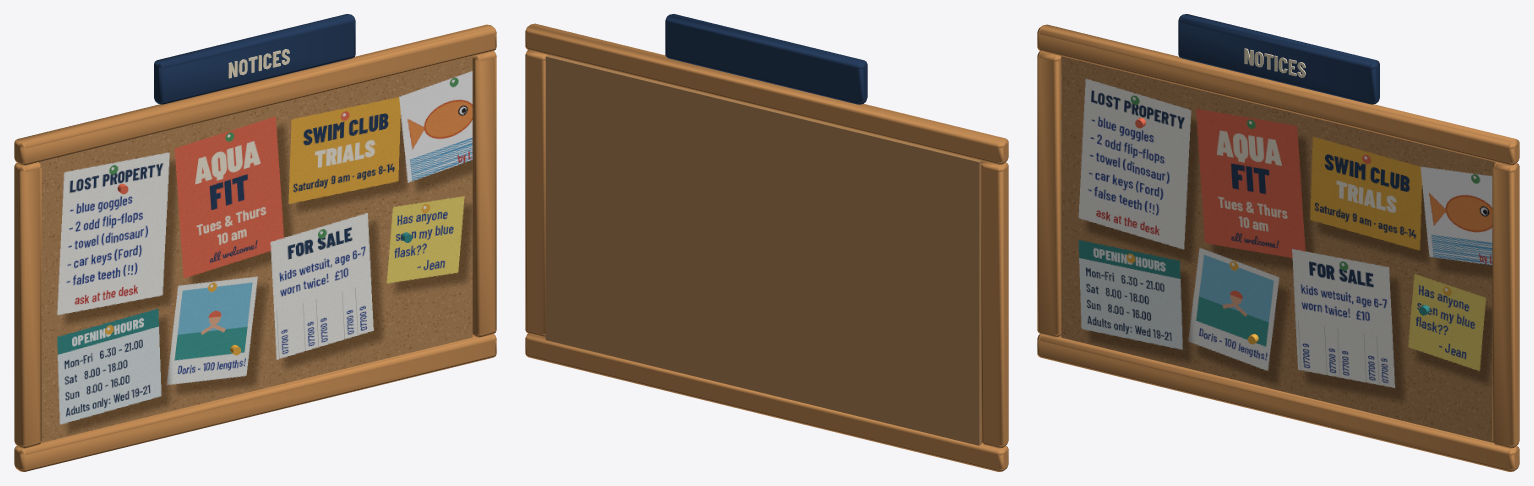
Rendered from noticeboard.glb.
3 renders of one model, left to right at view 1: azimuth 30°, elevation 25°; view 2: azimuth 150°, elevation 25°; view 3: azimuth 330°, elevation 25°, orthographic.
Visible parts, largest first — view 1: NoticeboardBody; view 2: NoticeboardBody; view 3: NoticeboardBody.
Boxes of the visible parts, x1,y1,x2,y2 form: NoticeboardBody: [14, 14, 496, 471]; NoticeboardBody: [525, 14, 1008, 471]; NoticeboardBody: [1037, 14, 1519, 471].
Bounding box in the file's own units: 1.06 × 0.795 × 0.035.
Materials: 8 (1 with a texture image).
